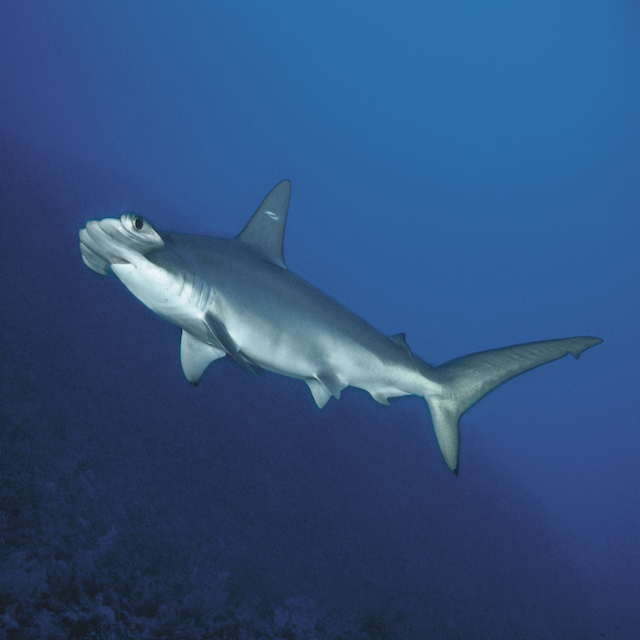hammerhead: (48, 176, 288, 346)
